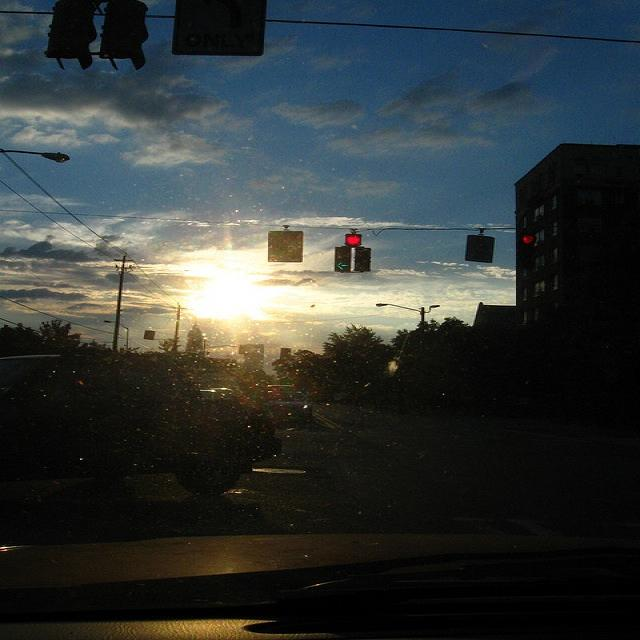car: (0, 351, 281, 504), (267, 387, 312, 420), (266, 384, 294, 396)
